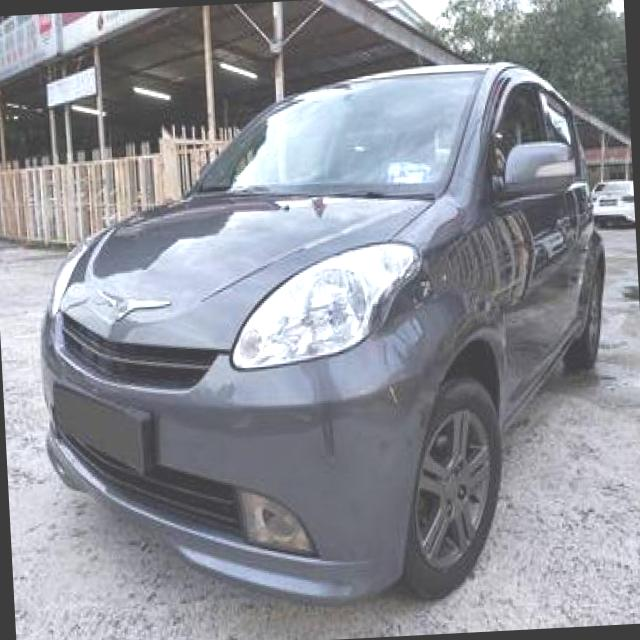PeroduaMyvi: (22, 51, 624, 622)
